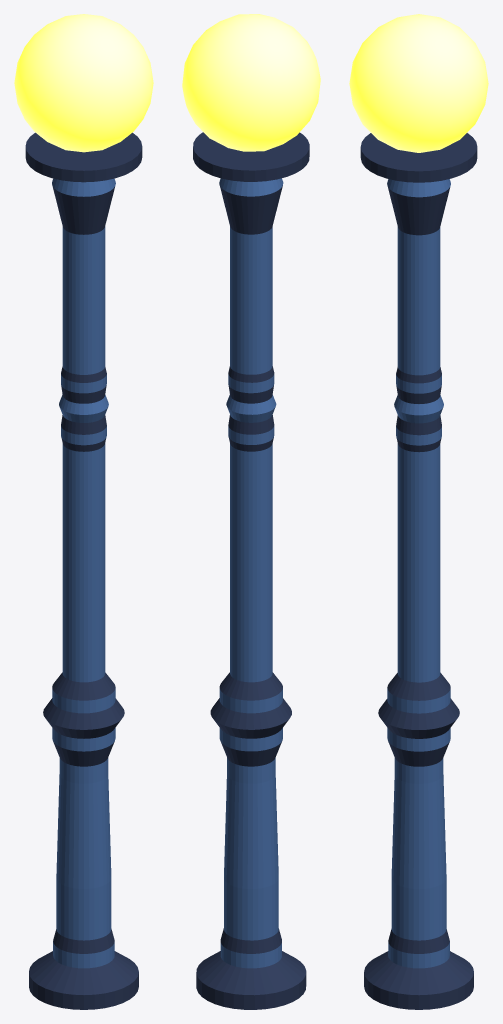
File: LampPostModel06.fbx
3 renders of one model, left to right at view 1: azimuth 90°, elevation 25°; view 2: azimuth 150°, elevation 25°; view 3: azimuth 270°, elevation 25°, orthographic.
Parts seen in each view (by area): view 1: LampPost06; view 2: LampPost06; view 3: LampPost06.
Boxes of the visible parts, left/top/right/bottom form: LampPost06: left=14, top=14, right=153, bottom=1009; LampPost06: left=182, top=14, right=320, bottom=1009; LampPost06: left=349, top=14, right=488, bottom=1009.
Size of the model in its own units: 94.95 by 727 by 94.95.
